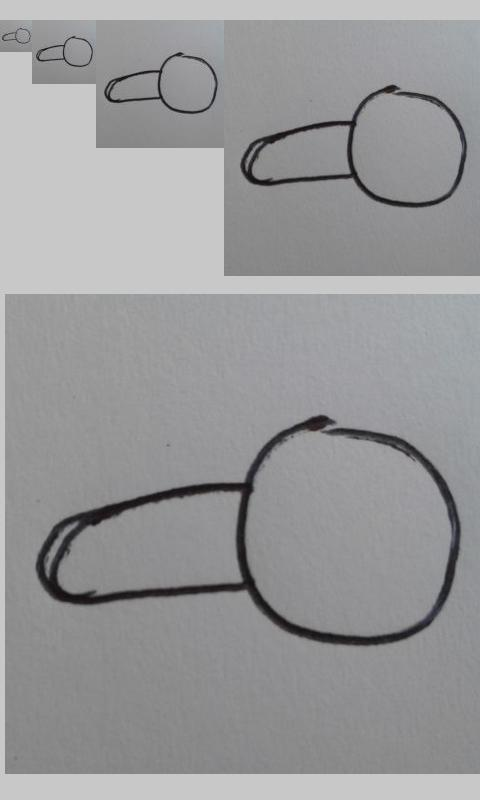switch: (35, 414, 461, 648), (240, 85, 468, 208), (104, 51, 218, 115), (36, 36, 94, 67), (2, 28, 32, 44)
